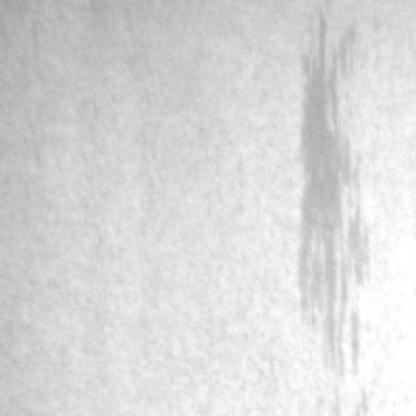inclusion: (294, 2, 375, 381)
